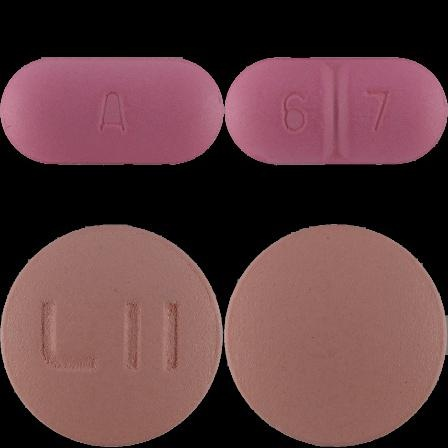70786-0029: (0, 0, 224, 224)
